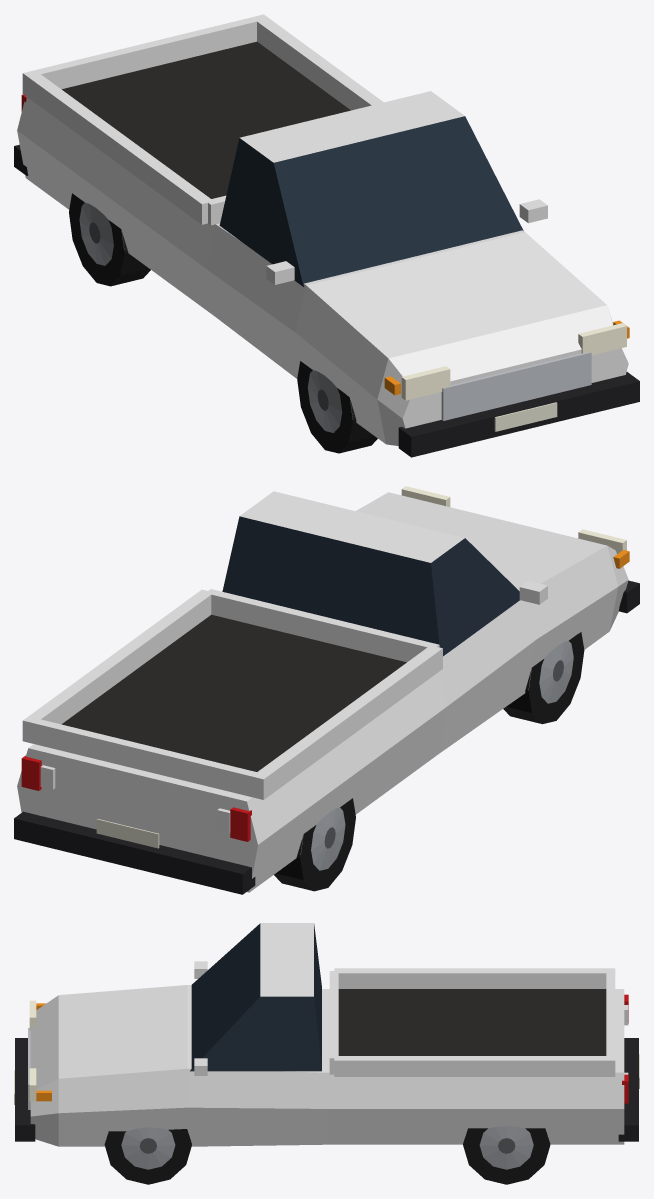
File: pickup.glb
3 views of the same model, one above another, from view 1: azimuth 30°, elevation 25°; view 2: azimuth 150°, elevation 25°; view 3: azimuth 270°, elevation 25° (orthographic). The views are drawn at different scales.
Visible parts, largest first — view 1: Body, Wheel_RR, Wheel_FR; view 2: Body, Wheel_RR, Wheel_FR; view 3: Body, Wheel_RL, Wheel_FL.
Part boxes in pixels (box(x1,y1,x2,y2)): Body: box(14, 14, 639, 457); Wheel_RR: box(69, 193, 150, 286); Wheel_FR: box(297, 361, 377, 453); Body: box(14, 486, 639, 894); Wheel_RR: box(274, 798, 355, 891); Wheel_FR: box(503, 632, 584, 724); Body: box(14, 923, 639, 1146); Wheel_RL: box(463, 1126, 550, 1184); Wheel_FL: box(104, 1127, 191, 1184).
Bounding box in the file's own units: 2.21 × 1.78 × 5.59.
Materials: 4 (3 with a texture image).
